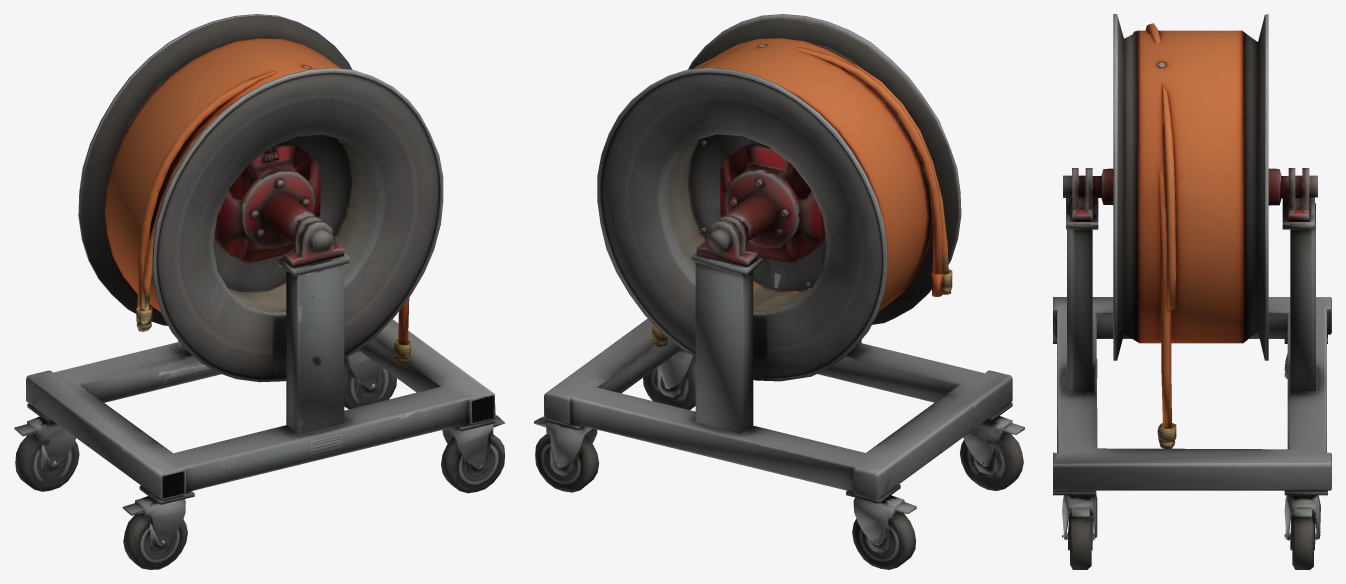
Rendered from asset_pack_item_glb-vd74sdj4ynbc52j4f7q2vf80hs8at9jd-4-ks781kx485bz6a78bs1pwf821d8avm7d.glb.
The picture shows the model from 3 angles, left to right: view 1: azimuth 30°, elevation 25°; view 2: azimuth 150°, elevation 25°; view 3: azimuth 270°, elevation 25°; orthographic projection. The views are drawn at different scales.
Parts seen in each view (by area): view 1: Air hose reel; view 2: Air hose reel; view 3: Air hose reel.
Boxes of the visible parts, x1=… form: Air hose reel: x1=14, y1=14, x2=505, y2=569; Air hose reel: x1=534, y1=14, x2=1024, y2=569; Air hose reel: x1=1053, y1=14, x2=1331, y2=569.
Bounding box in the file's own units: 0.8848 × 0.998 × 0.5527.
Materials: 1 (1 with a texture image).
